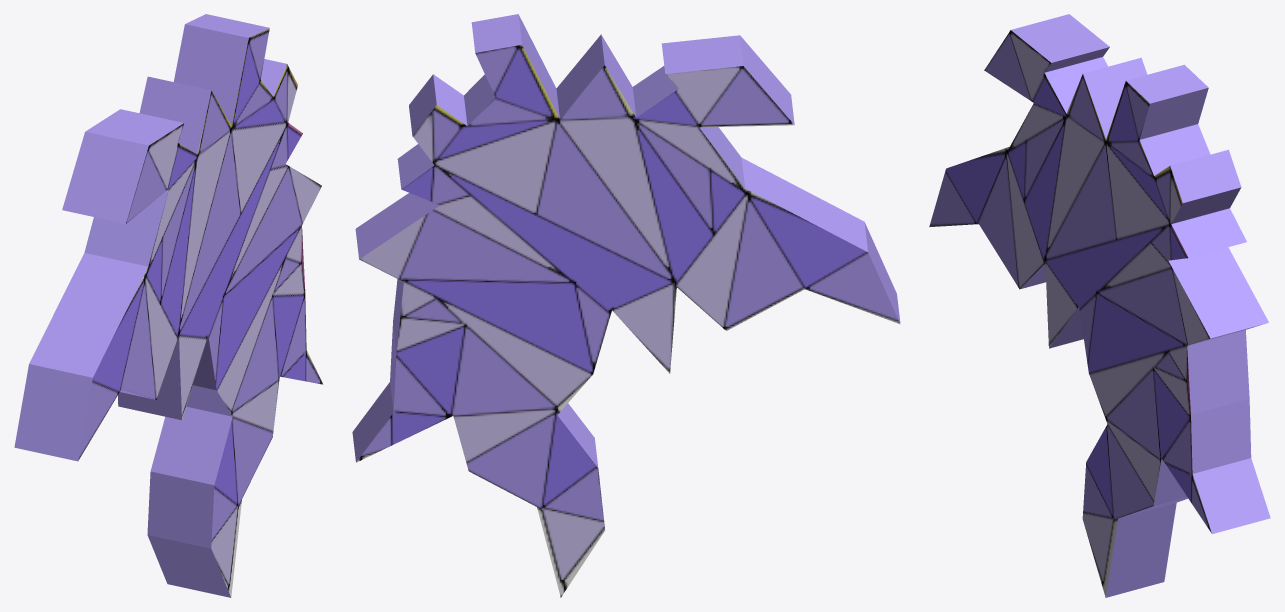
File: mosaicBlue.FBX
The picture shows the model from 3 angles, left to right: view 1: azimuth 30°, elevation 25°; view 2: azimuth 150°, elevation 25°; view 3: azimuth 270°, elevation 25°; orthographic projection. The views are drawn at different scales.
Visible parts, largest first — view 1: Line005; view 2: Line005; view 3: Line005.
Part boxes in pixels (bbox=[...]): Line005: bbox=[14, 14, 323, 597]; Line005: bbox=[352, 14, 900, 597]; Line005: bbox=[929, 14, 1270, 597].
Size of the model in its own units: 15.33 by 18.83 by 10.98.
